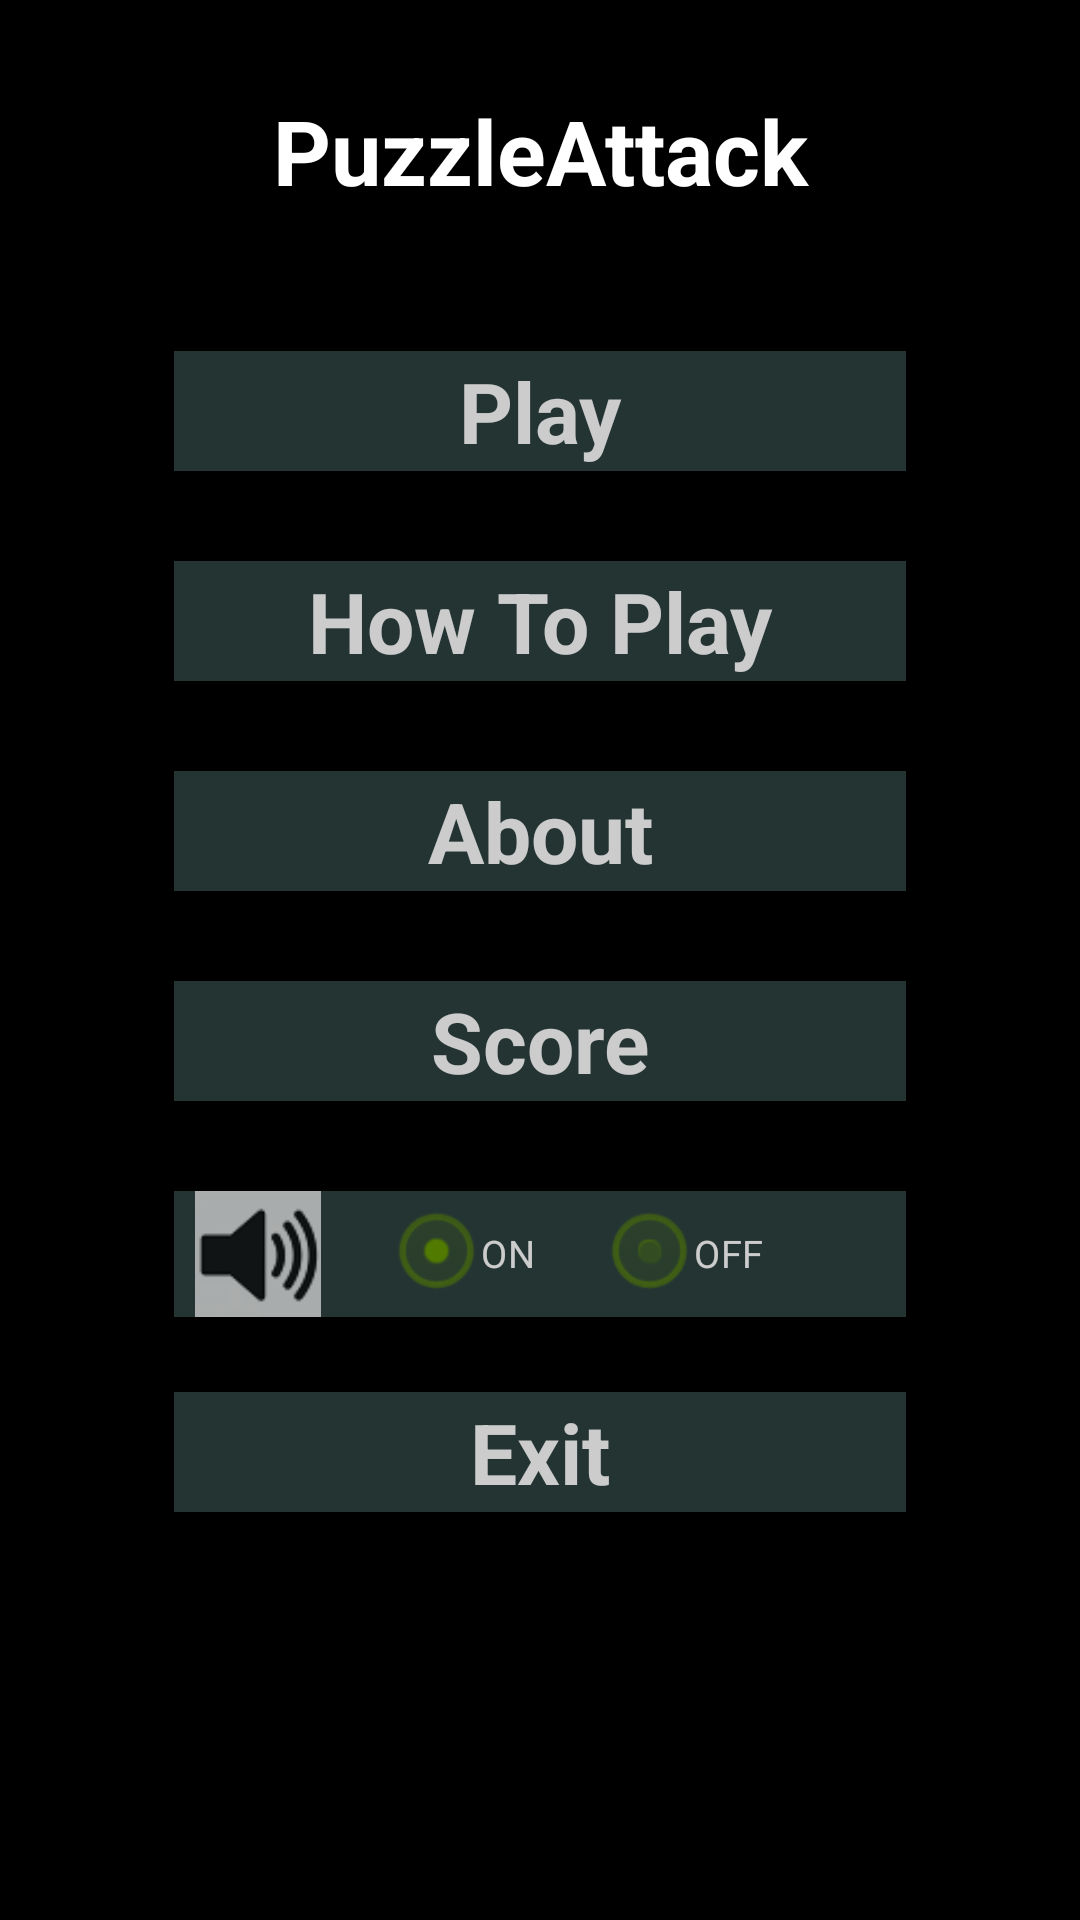

Screen size 1080px x 1920px. Icon name, then its box in pixels as region(x1, y1, x2, y2):
ecoute: region(174, 1191, 342, 1317)
